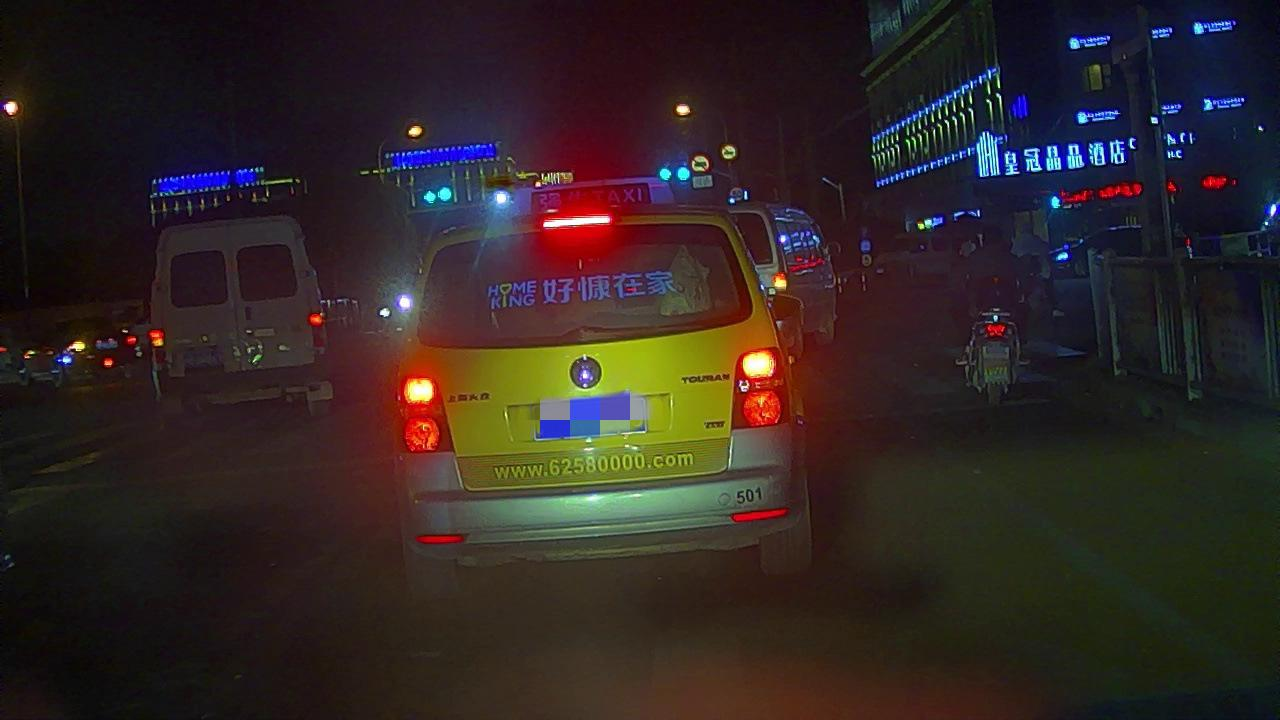traffic_light: (673, 162, 693, 186), (436, 183, 455, 204), (656, 162, 673, 183), (421, 187, 437, 207)
